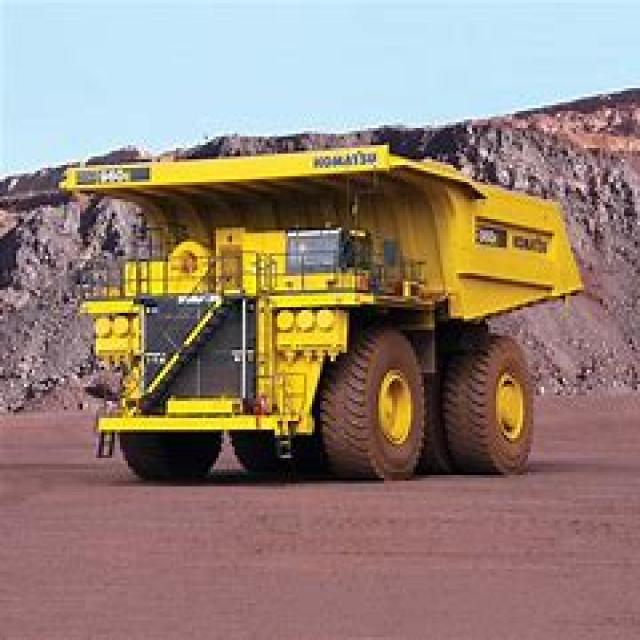dump_truck: (46, 131, 582, 481)
